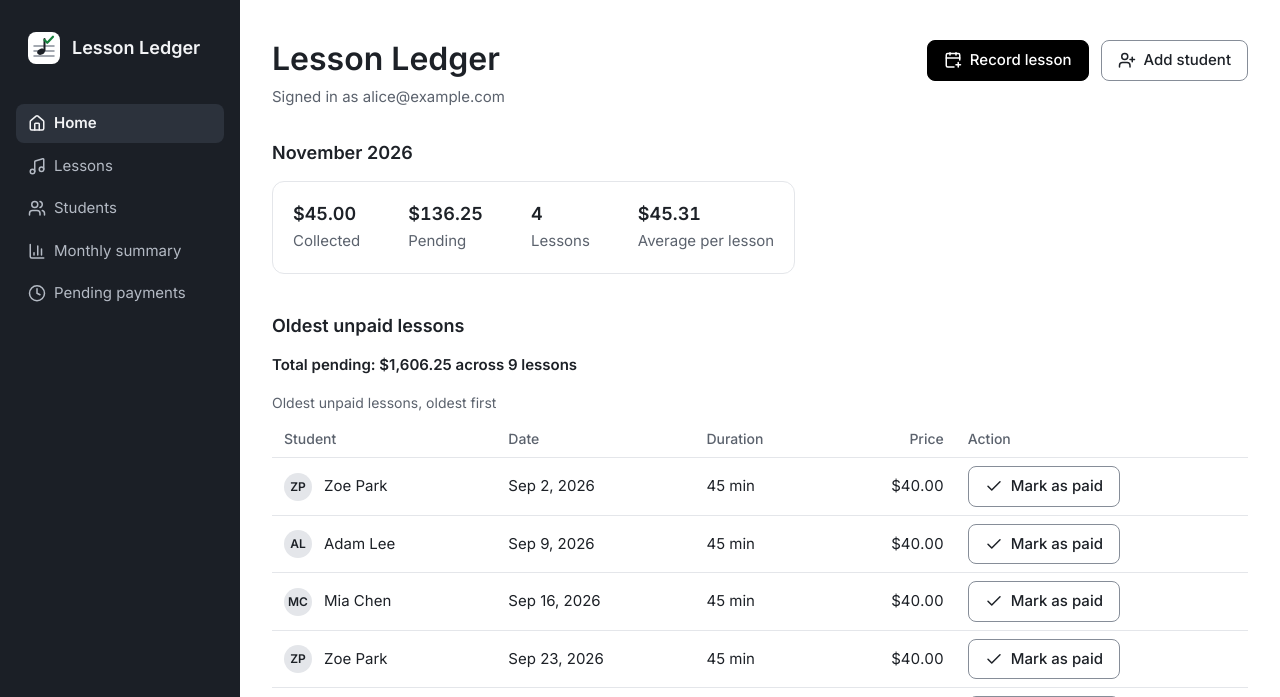
it: F07 AC-4 quick actions › AC-4d Add student on the Students page goes to /students inside the app
Expected: the text "Signed in as alice@example.com" is shown, left=272, top=86, right=505, bottom=109
What coordinates should you click on to do the following:
click the link "Add student"
I would click on:
 (1174, 60)
Its box is left=1100, top=40, right=1248, bottom=80.
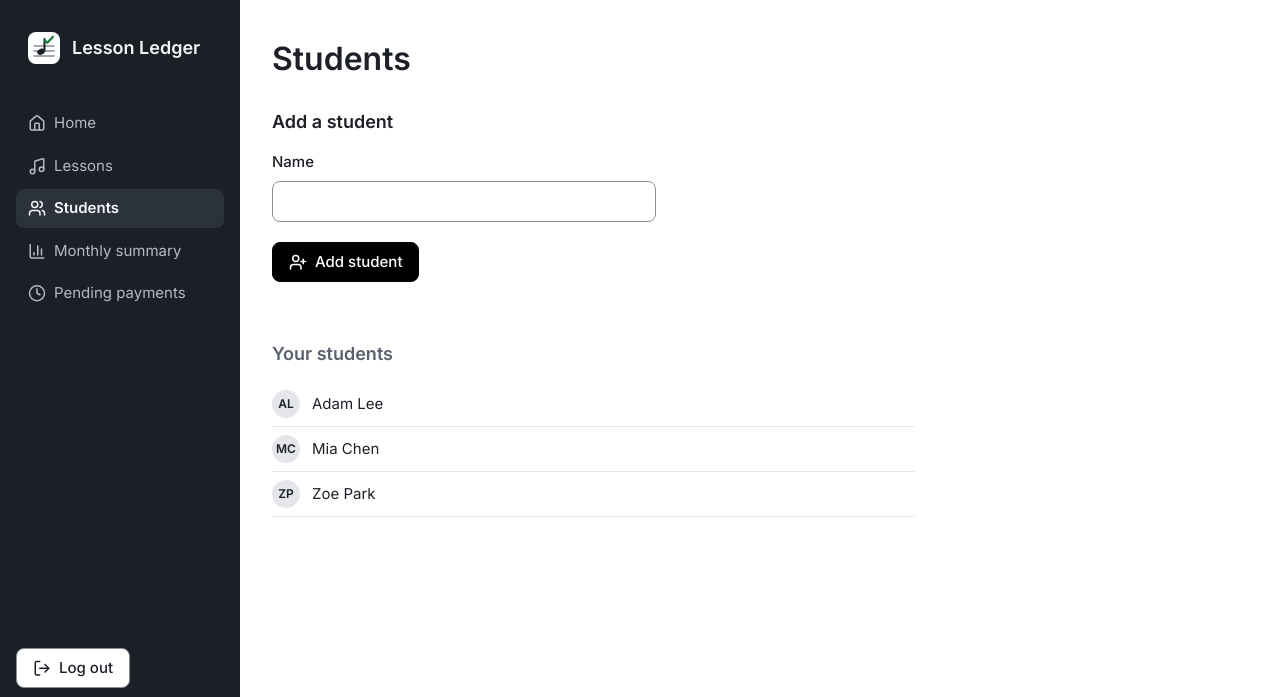
Result: the heading "Students" is shown at left=272, top=39, right=411, bottom=78
